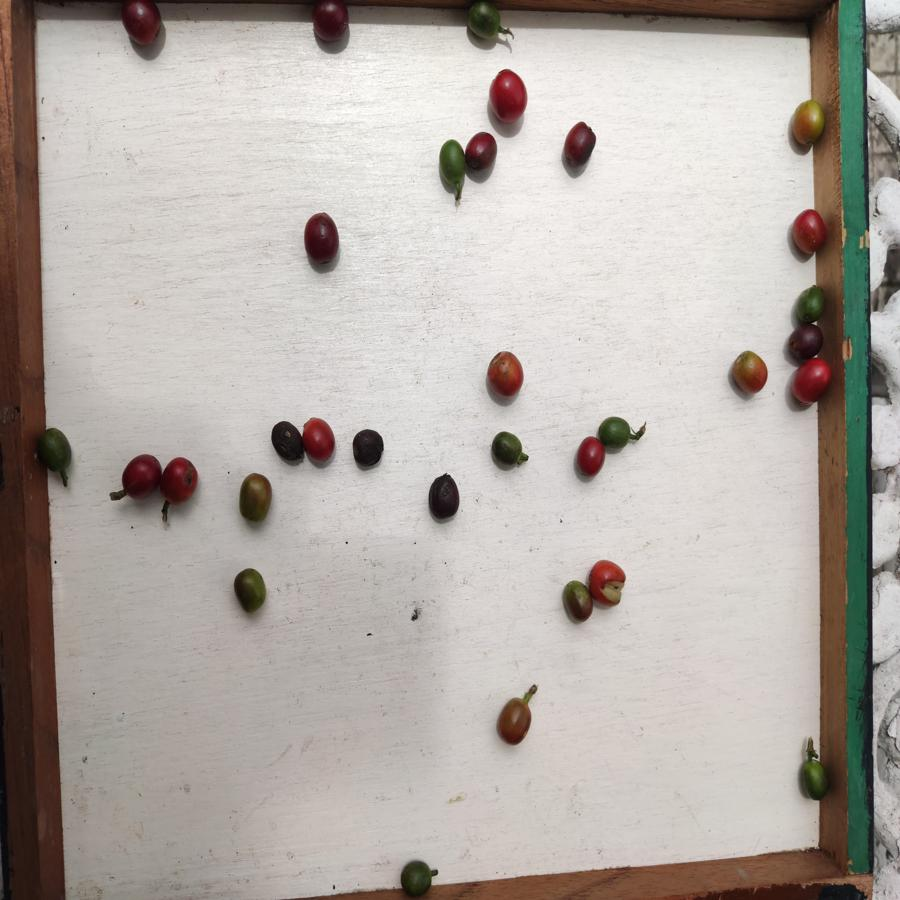Inmaduro: (37, 426, 73, 477), (795, 755, 834, 801), (466, 2, 503, 44), (437, 138, 466, 190), (398, 861, 436, 898), (597, 415, 636, 450), (489, 430, 524, 469), (795, 282, 825, 325)
Maduro: (487, 68, 528, 126), (789, 358, 835, 409), (586, 557, 632, 607), (119, 451, 164, 501), (788, 206, 831, 255), (300, 416, 341, 466), (162, 457, 201, 504), (572, 436, 607, 478)
Pinton: (731, 346, 773, 400), (485, 351, 528, 402), (789, 98, 830, 150), (497, 695, 533, 745), (238, 473, 273, 522), (235, 569, 269, 612), (562, 580, 594, 623)
Sobremaduro: (302, 212, 341, 267), (120, 1, 163, 45), (312, 1, 349, 44), (565, 120, 598, 167), (463, 129, 498, 173), (429, 471, 459, 520), (270, 420, 303, 463), (786, 324, 828, 357), (353, 429, 385, 471)
